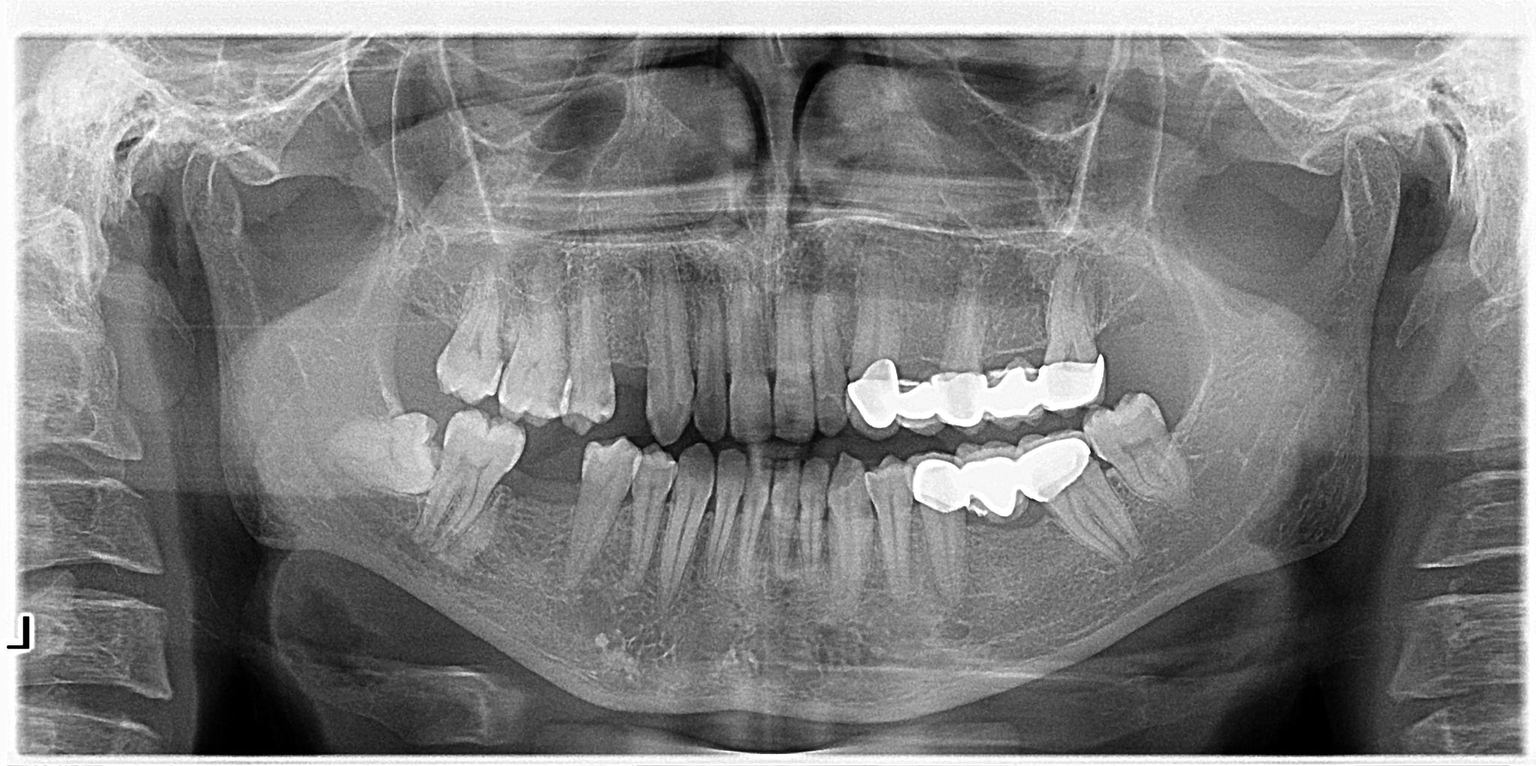Premolars: (598, 233, 1536, 629), (308, 239, 928, 608), (275, 247, 846, 615), (230, 198, 595, 610)
